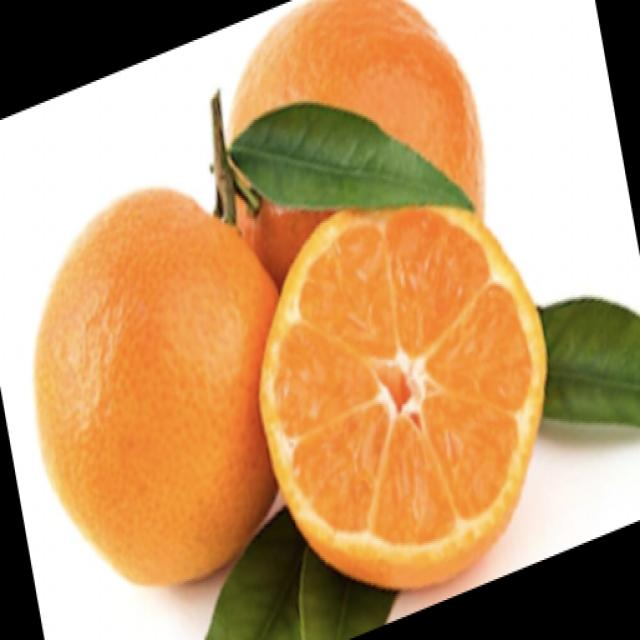fresh: (15, 4, 573, 611)
